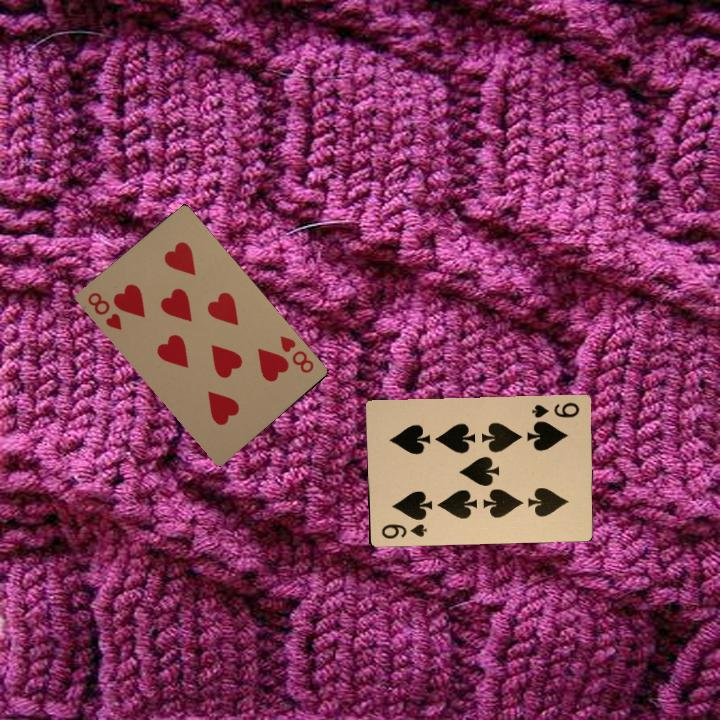8h: (84, 288, 124, 333), (276, 332, 316, 376)
9s: (528, 398, 581, 420), (377, 520, 429, 541)
